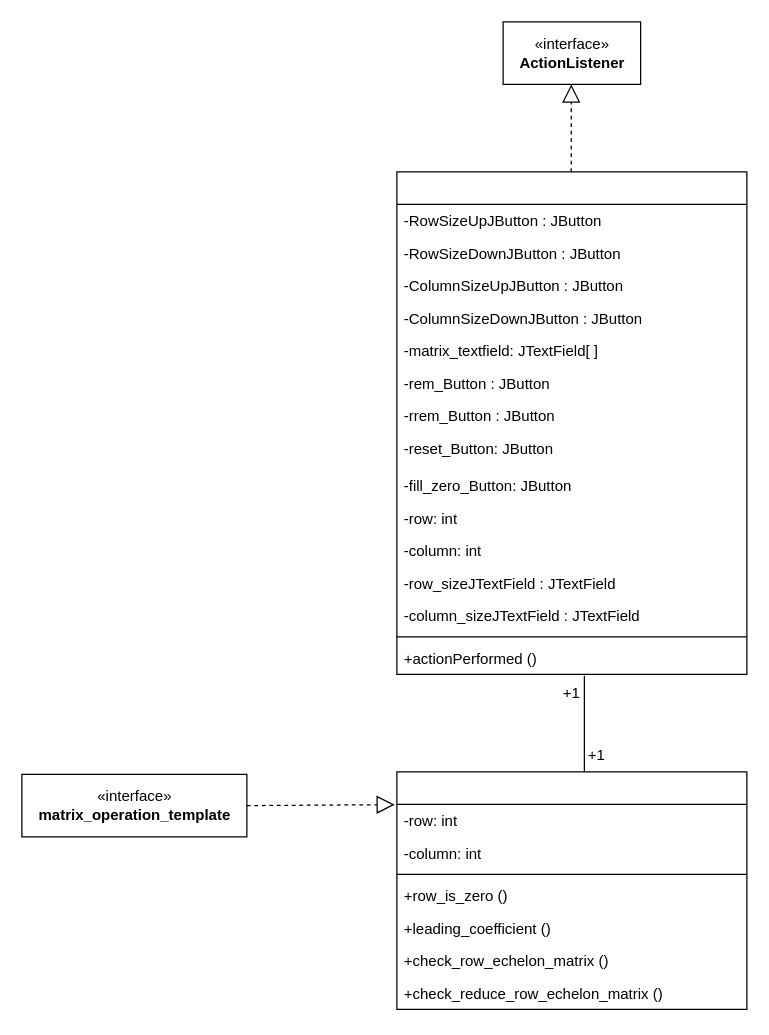
The diagram is 769 pixels wide and 1035 high, and some of its shapes have lost their labels. The shapes that lost their labels are listed below. From the top down, each one's box as (x1, y1, x2, y2) in pixels, then its label:
(396, 171, 747, 674): gui_second_page_test
(396, 771, 747, 1009): matrix_operation
